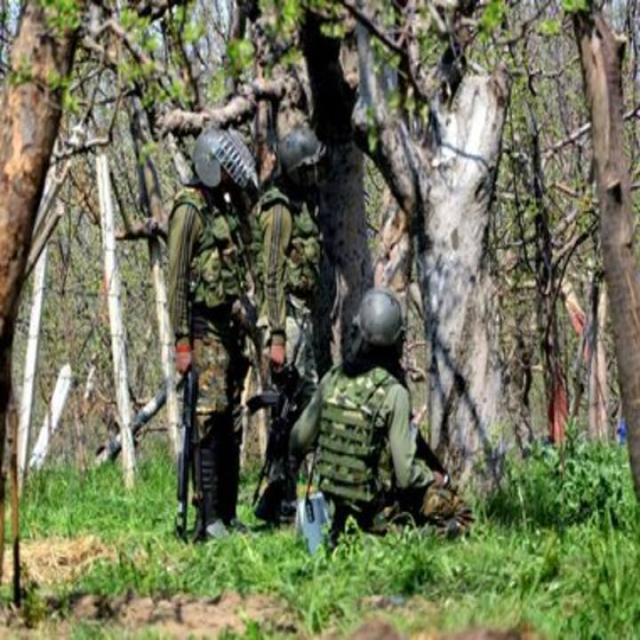Forest: (0, 0, 640, 640)
Militant: (155, 90, 260, 557), (308, 275, 471, 571), (246, 109, 340, 518)
